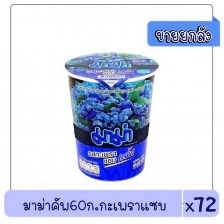paper_cup: (59, 48, 161, 186)
